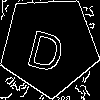D: (24, 20, 70, 74)
